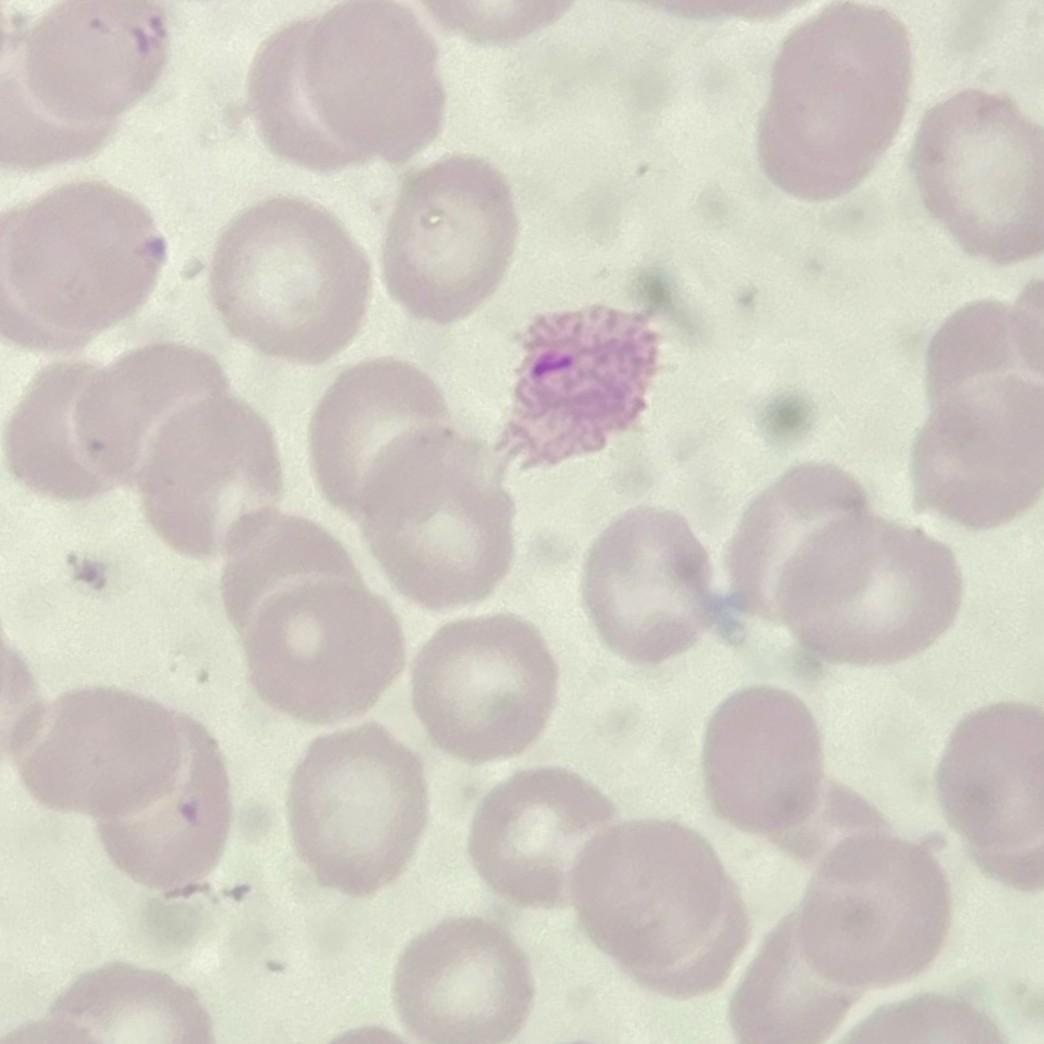Infected: (496, 304, 669, 474)
Uninfected: (360, 426, 514, 612), (208, 194, 373, 362), (782, 514, 962, 665), (4, 178, 165, 337), (88, 706, 229, 885), (726, 460, 879, 623), (134, 394, 285, 559), (242, 576, 407, 727), (77, 342, 234, 495), (802, 832, 949, 994), (580, 502, 722, 669), (308, 362, 461, 516), (381, 153, 520, 321), (308, 0, 448, 166), (288, 728, 424, 896), (570, 820, 722, 970), (916, 92, 1044, 268), (464, 766, 618, 912), (410, 612, 559, 761), (248, 18, 394, 169), (22, 686, 186, 820), (728, 898, 873, 1044), (774, 4, 913, 156), (698, 682, 828, 837), (386, 914, 533, 1044), (18, 0, 167, 127), (216, 512, 365, 639), (756, 66, 893, 201), (934, 702, 1044, 855)
